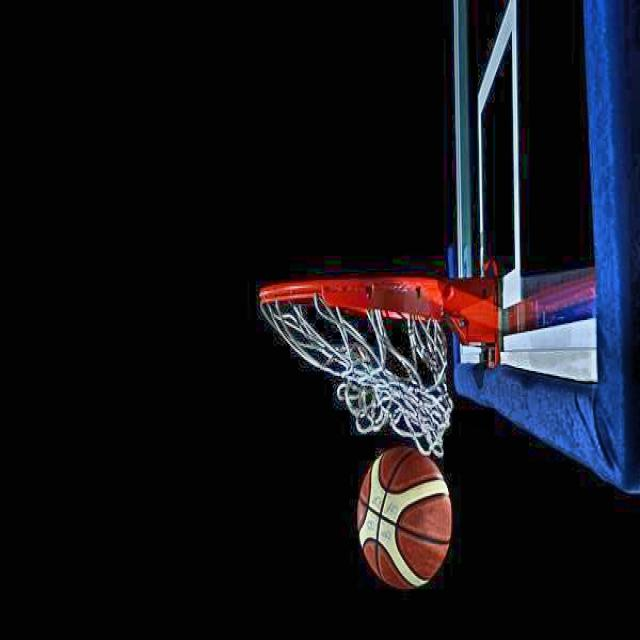board: (355, 446, 452, 592)
rim: (258, 278, 450, 452)
